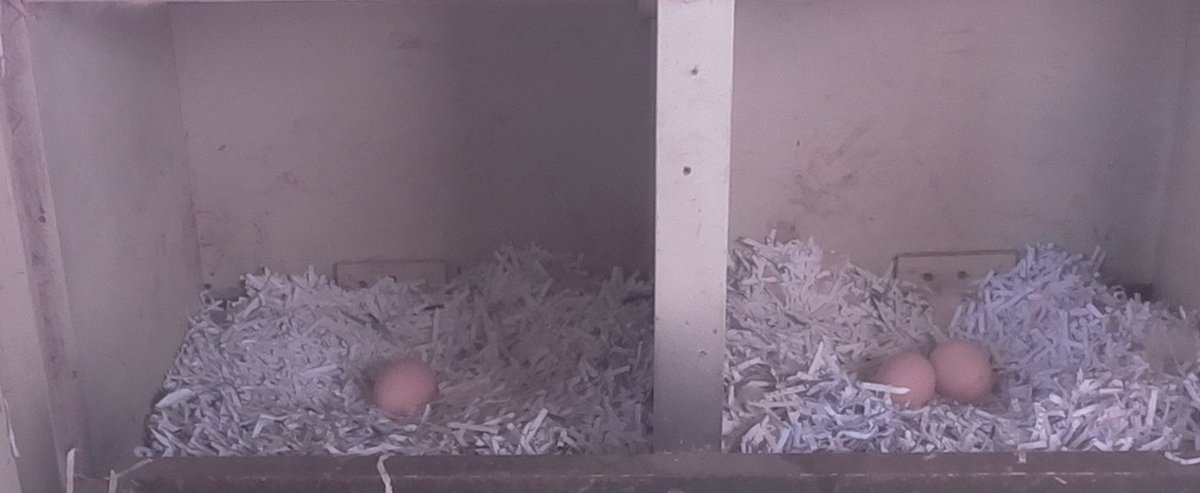egg: (927, 332, 997, 409), (368, 355, 442, 419), (869, 349, 937, 414)
